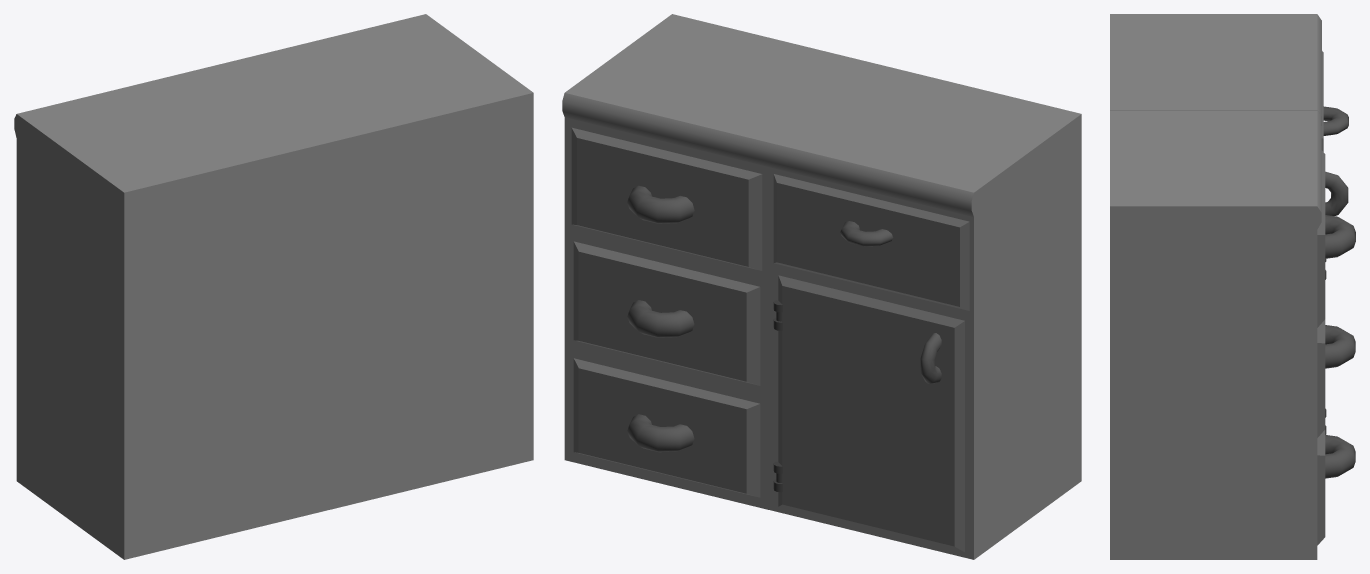
File: Cupboard#4Model.fbx
The picture shows the model from 3 angles, left to right: view 1: azimuth 30°, elevation 25°; view 2: azimuth 150°, elevation 25°; view 3: azimuth 270°, elevation 25°; orthographic projection. The views are drawn at different scales.
Parts seen in each view (by area): view 1: Cupboard#4Model; view 2: Cupboard#4Model; view 3: Cupboard#4Model.
Boxes of the visible parts, box(x1,y1,x2,y2) form: Cupboard#4Model: box(14, 14, 533, 559); Cupboard#4Model: box(562, 14, 1081, 559); Cupboard#4Model: box(1110, 14, 1355, 559).
Size of the model in its own units: 133 by 114 by 71.57.
